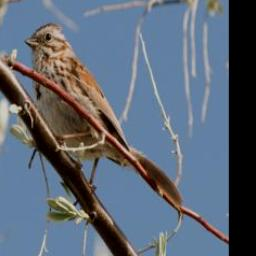Sparrow: (24, 23, 184, 211)
